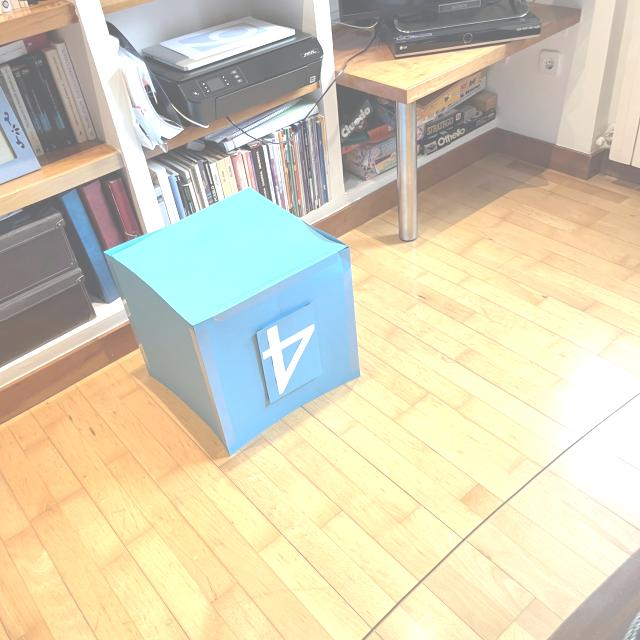box: (100, 184, 366, 459)
